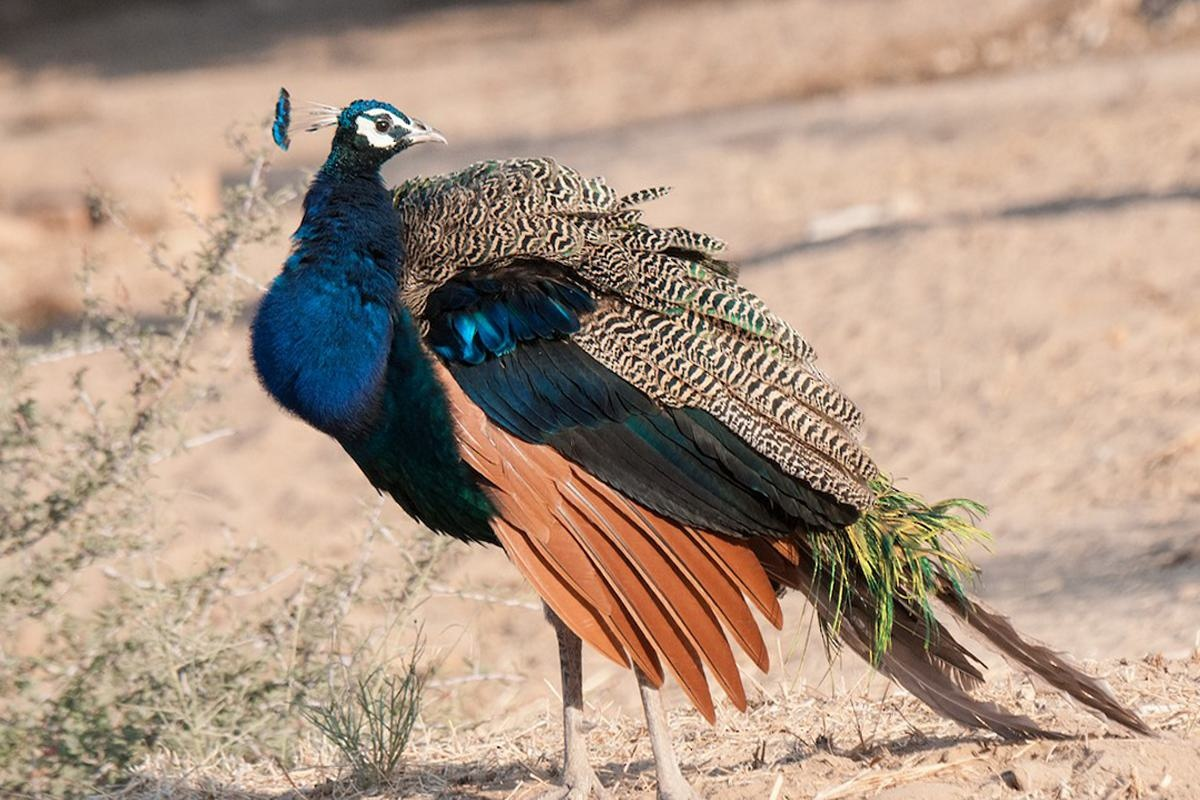peacock: (241, 62, 1118, 752)
